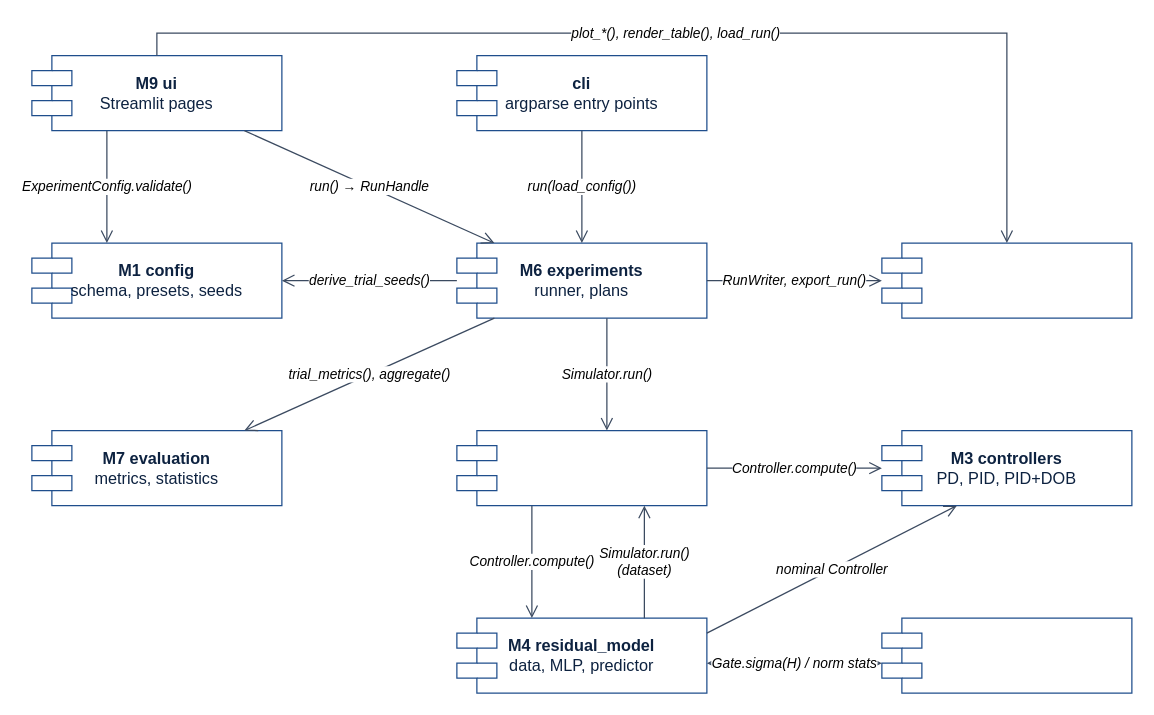
Image size: 1154x715. Some labels were removed from this diagram. The shapes that lost their labels are listed below. From the top down, each one's box as (x1, y1, x2, y2) in pixels, then its label:
(881, 242, 1132, 318): M8 visualization plots, tables, export
(456, 429, 707, 506): M2 simulator dynamics, disturbance
(881, 617, 1132, 693): M5 gating DistanceGate, ConstantGate
